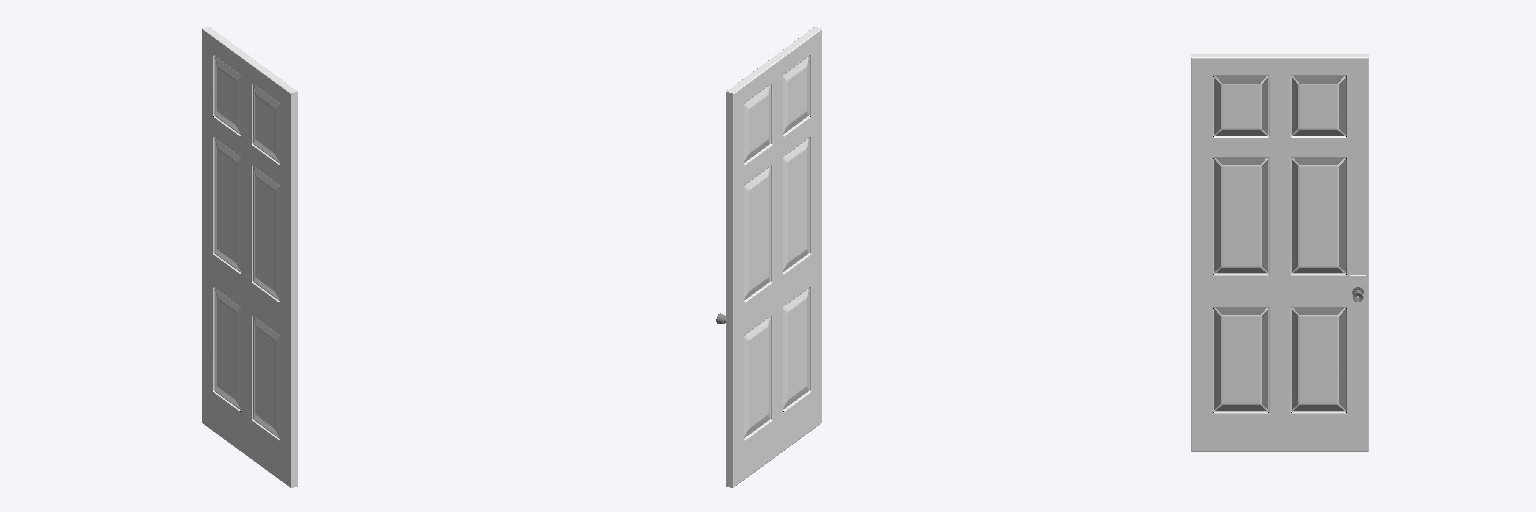
The picture shows the model from 3 angles: view 1: azimuth 30°, elevation 25°; view 2: azimuth 150°, elevation 25°; view 3: azimuth 270°, elevation 25°; orthographic projection.
Visible parts, largest first — view 1: polySurface18group11PUERTAgroup10Puerta group1; view 2: polySurface18group11PUERTAgroup10Puerta group1; view 3: polySurface18group11PUERTAgroup10Puerta group1.
Part boxes in pixels (x1,y1,x2,y2): polySurface18group11PUERTAgroup10Puerta group1: (202,27,297,487); polySurface18group11PUERTAgroup10Puerta group1: (726,27,821,487); polySurface18group11PUERTAgroup10Puerta group1: (1191,54,1368,451).
Bounding box in the file's own units: 0.1479 × 2.75 × 1.12.
2 materials, 2 textured.